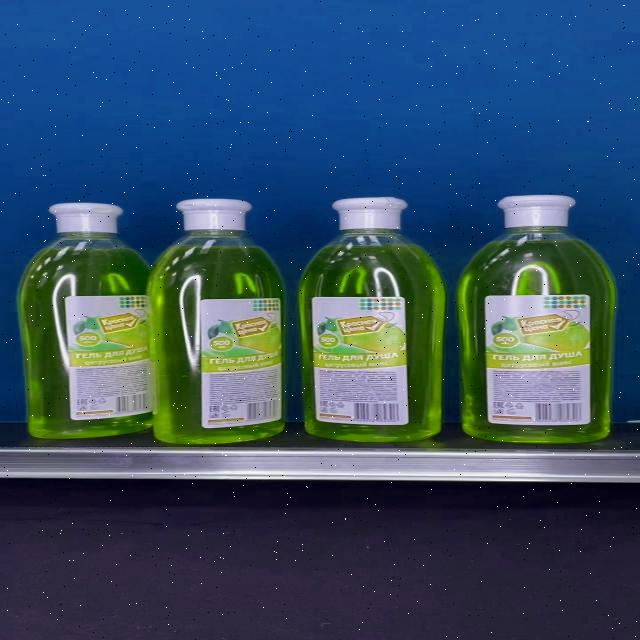Bottle: (457, 195, 617, 443), (298, 197, 447, 443), (146, 199, 284, 444), (20, 203, 154, 438)
Cap: (497, 195, 576, 228), (332, 197, 406, 230), (48, 203, 124, 234), (176, 199, 252, 230)
